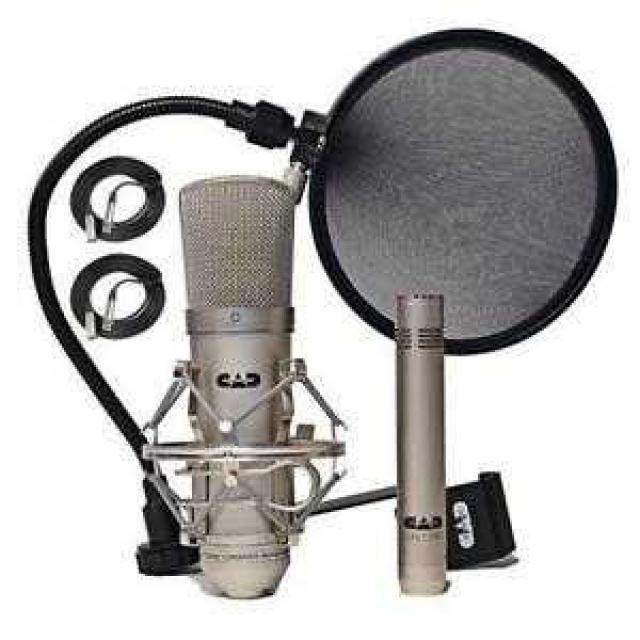microphone: (150, 168, 340, 600)
